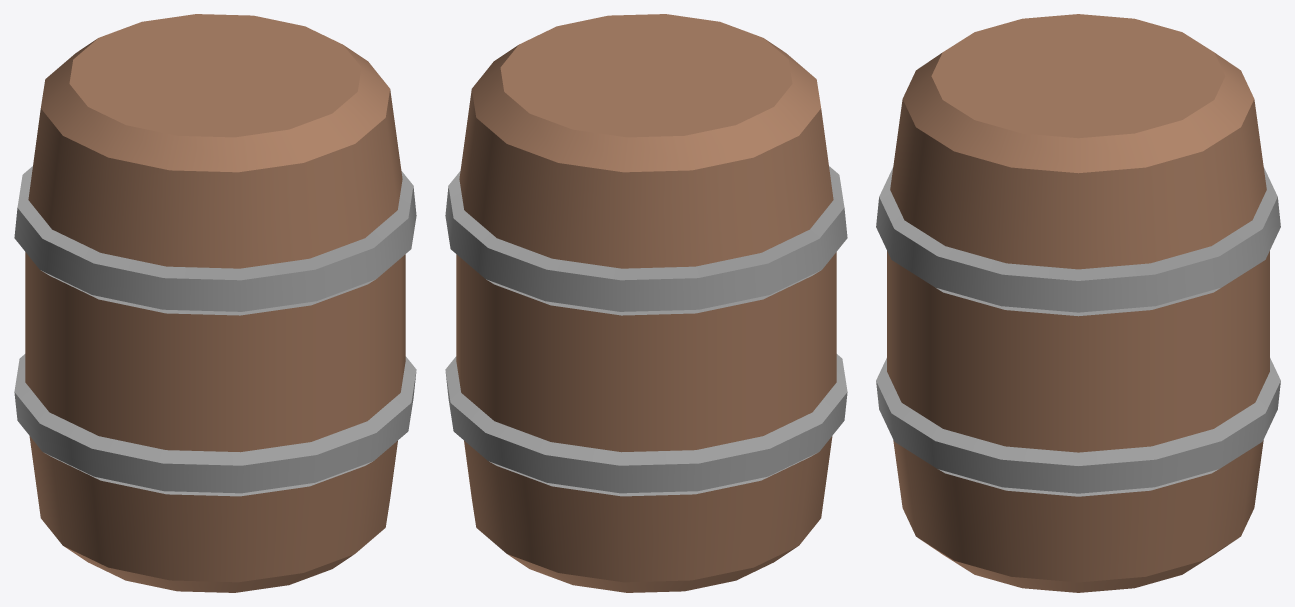
File: Barrel.fbx
The picture shows the model from 3 angles, left to right: view 1: azimuth 30°, elevation 25°; view 2: azimuth 150°, elevation 25°; view 3: azimuth 270°, elevation 25°; orthographic projection.
Parts seen in each view (by area): view 1: Barrel; view 2: Barrel; view 3: Barrel.
Boxes of the visible parts, x1,y1,x2,y2 form: Barrel: [14, 14, 416, 592]; Barrel: [445, 14, 847, 592]; Barrel: [876, 14, 1280, 592].
Size of the model in its own units: 23.79 by 29.48 by 23.79.
